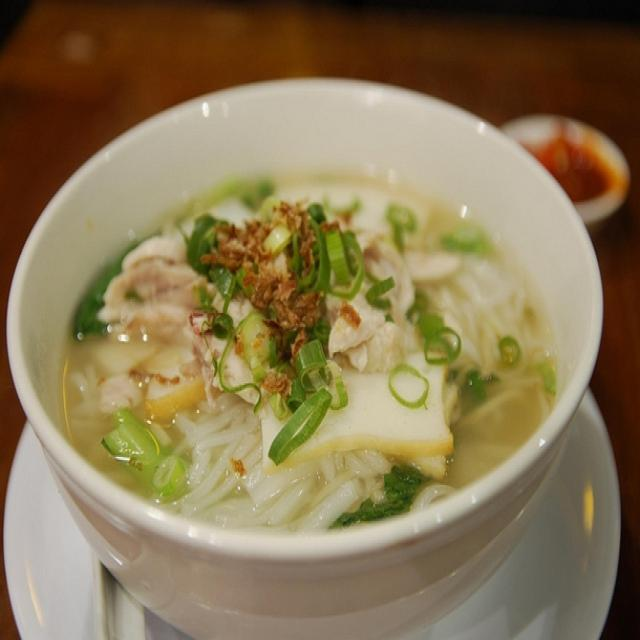面条主食: (23, 61, 627, 592)
